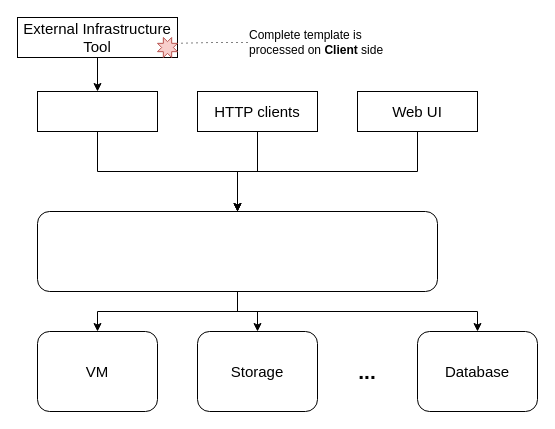
Image size: 555x429. Some labels were removed from this diagram. Each missing label, with the centre of its shape:
Resource Manager: (237,251)
SDK: (97,111)
